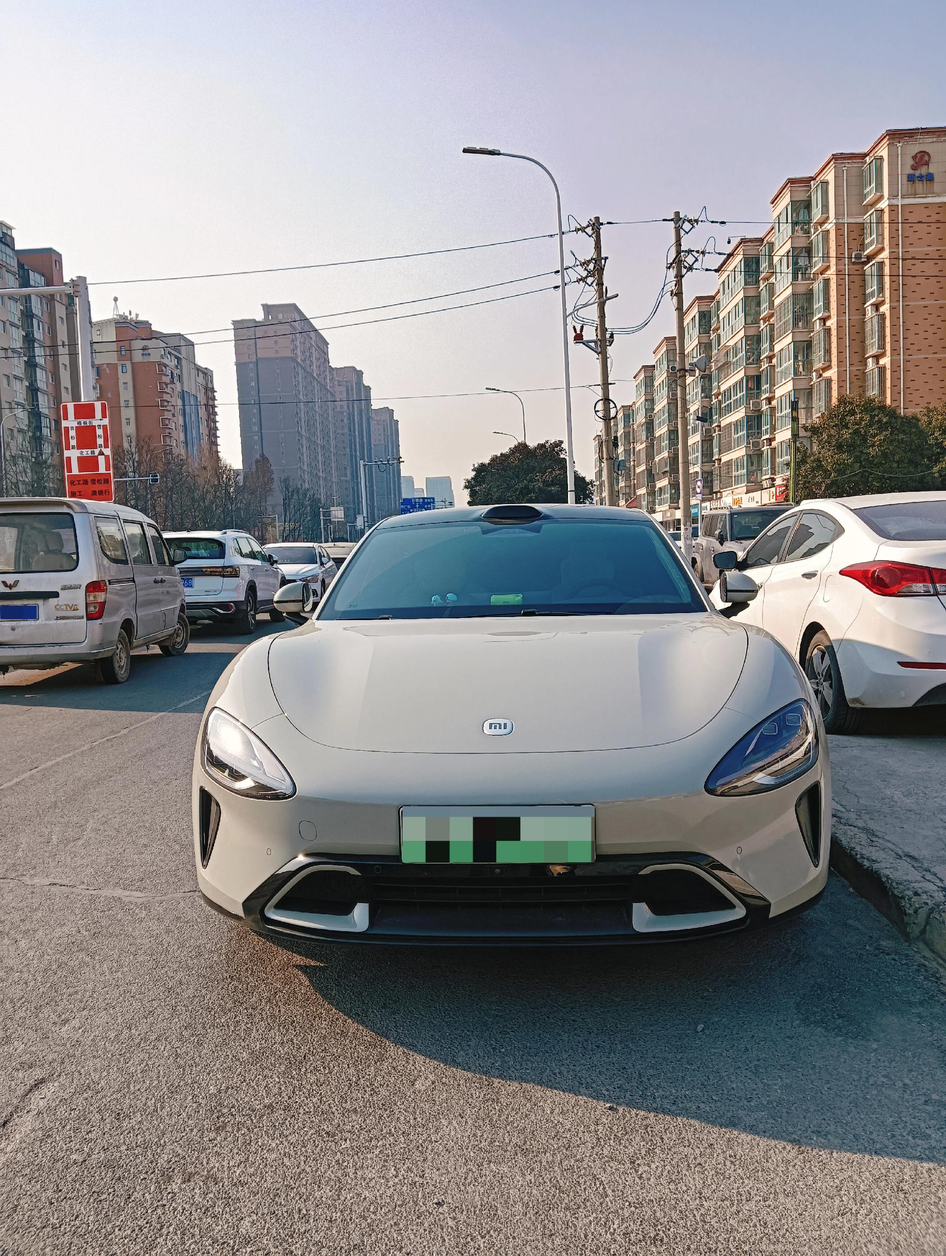other: (713, 486, 946, 726), (0, 508, 201, 687), (173, 529, 285, 626)
su7: (179, 500, 837, 957)
